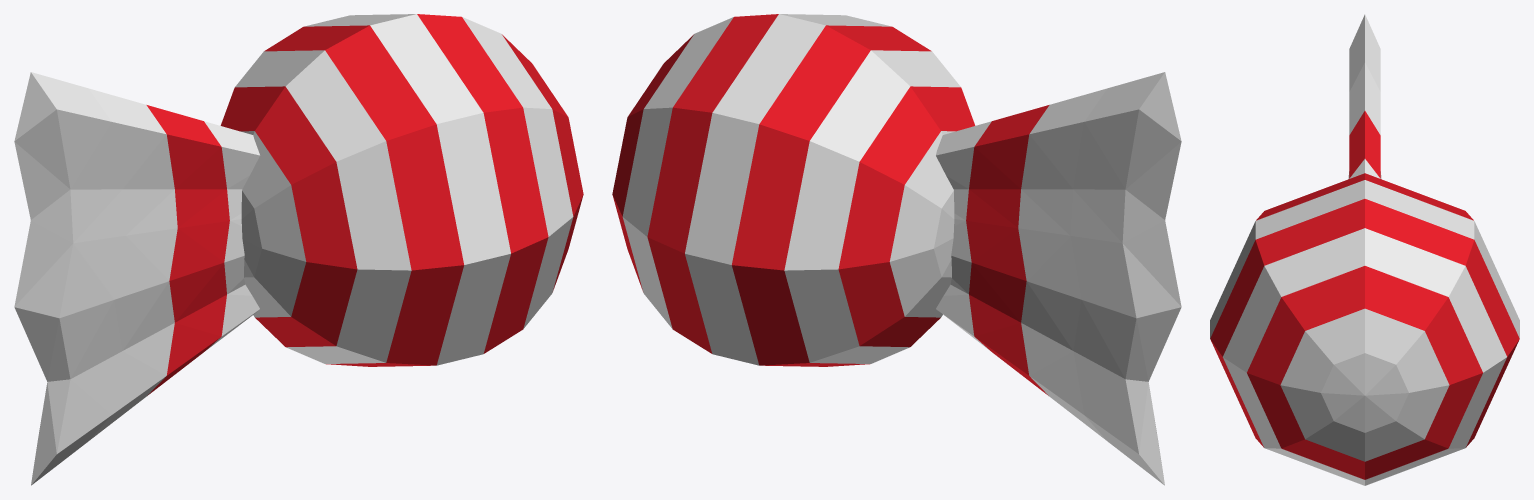
Rendered from wrapperParts.fbx.
The picture shows the model from 3 angles, left to right: view 1: azimuth 30°, elevation 25°; view 2: azimuth 150°, elevation 25°; view 3: azimuth 270°, elevation 25°; orthographic projection. The views are drawn at different scales.
Visible parts, largest first — view 1: WrapperCenter, WrapperWing; view 2: WrapperCenter, WrapperWing; view 3: WrapperCenter, WrapperWing.
Part boxes in pixels (bbox=[...]): WrapperCenter: bbox=[220, 14, 583, 366]; WrapperWing: bbox=[14, 72, 259, 485]; WrapperCenter: bbox=[612, 14, 975, 366]; WrapperWing: bbox=[936, 72, 1181, 485]; WrapperCenter: bbox=[1210, 173, 1519, 485]; WrapperWing: bbox=[1348, 14, 1381, 179].
Size of the model in its own units: 330 by 240 by 198.
